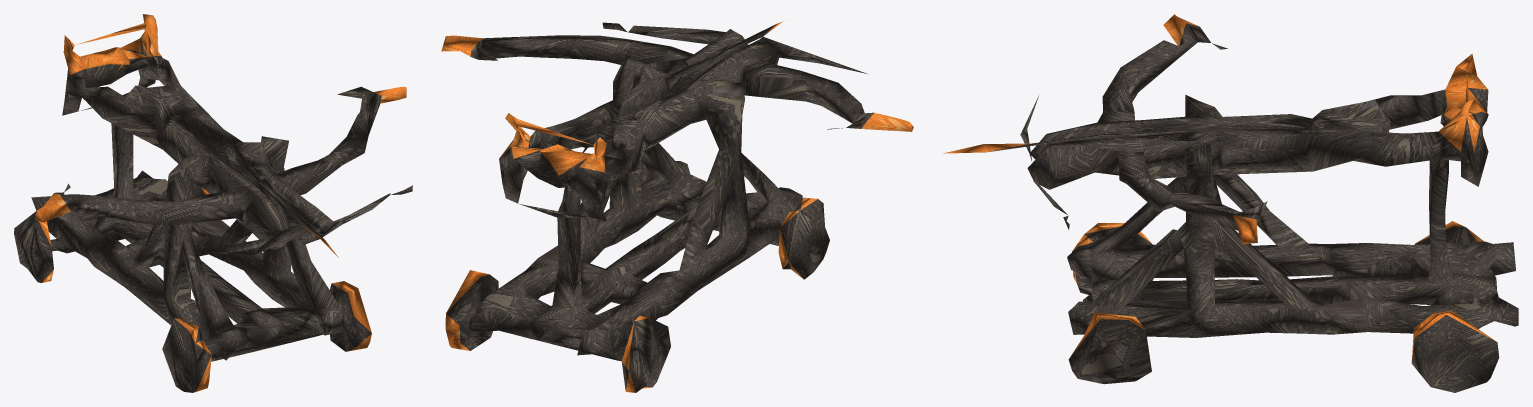
File: ae_scorpion_bronze_lod0.glb
3 renders of one model, left to right at view 1: azimuth 30°, elevation 25°; view 2: azimuth 150°, elevation 25°; view 3: azimuth 270°, elevation 25°, orthographic. The views are drawn at different scales.
Parts seen in each view (by area): view 1: AE_Forward_PlusZ; view 2: AE_Forward_PlusZ; view 3: AE_Forward_PlusZ.
Part boxes in pixels (x1,y1,x2,y2): AE_Forward_PlusZ: (14, 14, 412, 392); AE_Forward_PlusZ: (441, 21, 913, 392); AE_Forward_PlusZ: (943, 14, 1518, 392).
Bounding box in the file's own units: 1.76 × 0.9748 × 1.9.
2 materials, 2 textured.
